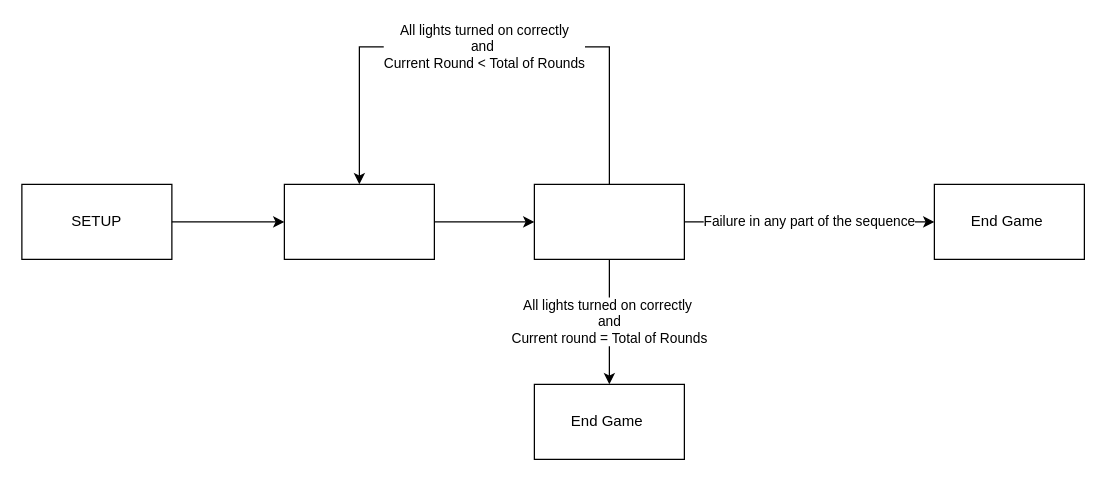
The diagram is 1106 pixels wide and 481 high, and some of its shapes have lost their labels. The centre of each missing label's shape, as x and y in pixels:
Organazing Sequence: (358,221)
User playing: (608,221)
